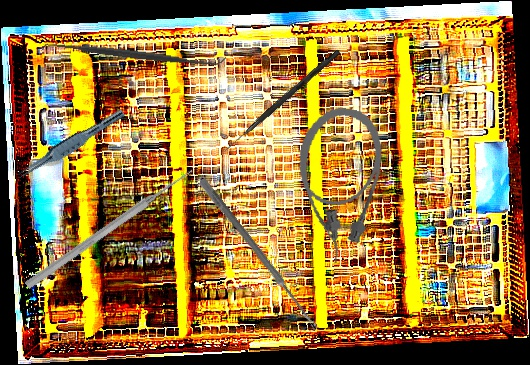Cannula: (282, 102, 390, 268)
Hook Surgical: (222, 47, 341, 156)
Pusher: (23, 165, 196, 292)
Spatula Surgical: (41, 32, 227, 76)
Surgical Spoon: (197, 177, 321, 332)
Tissue Forceps: (15, 102, 126, 186)
